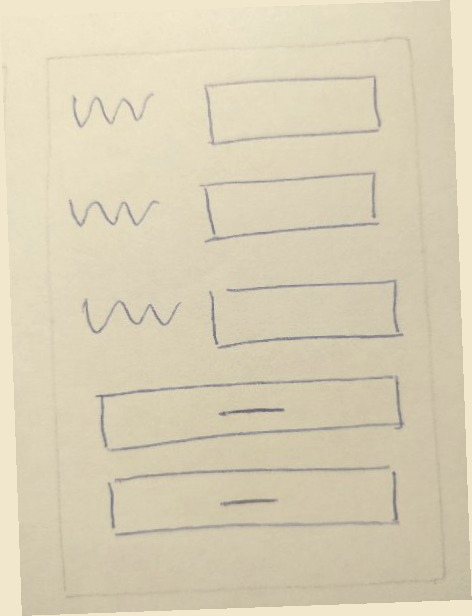button: (89, 457, 414, 542), (81, 370, 415, 452)
text: (65, 285, 188, 340), (61, 182, 172, 235), (63, 84, 164, 130)
text_input: (200, 270, 416, 355), (190, 165, 388, 247), (194, 71, 400, 149)
